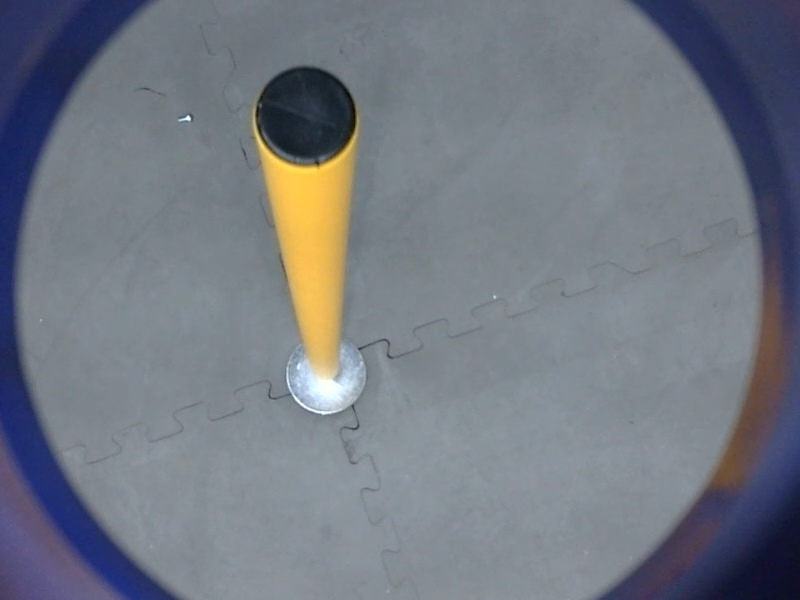tip: (248, 59, 363, 172)
